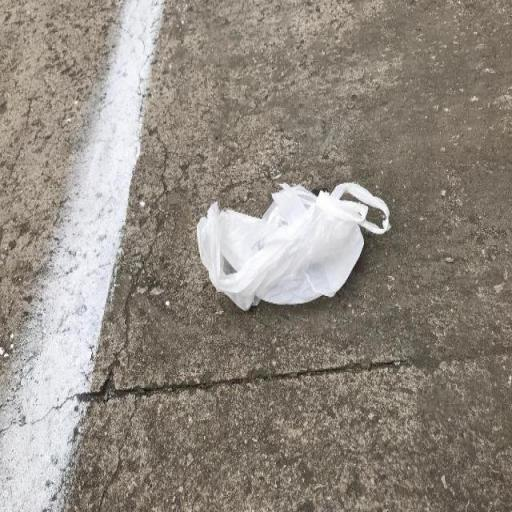plastic-bag: (194, 178, 392, 312)
